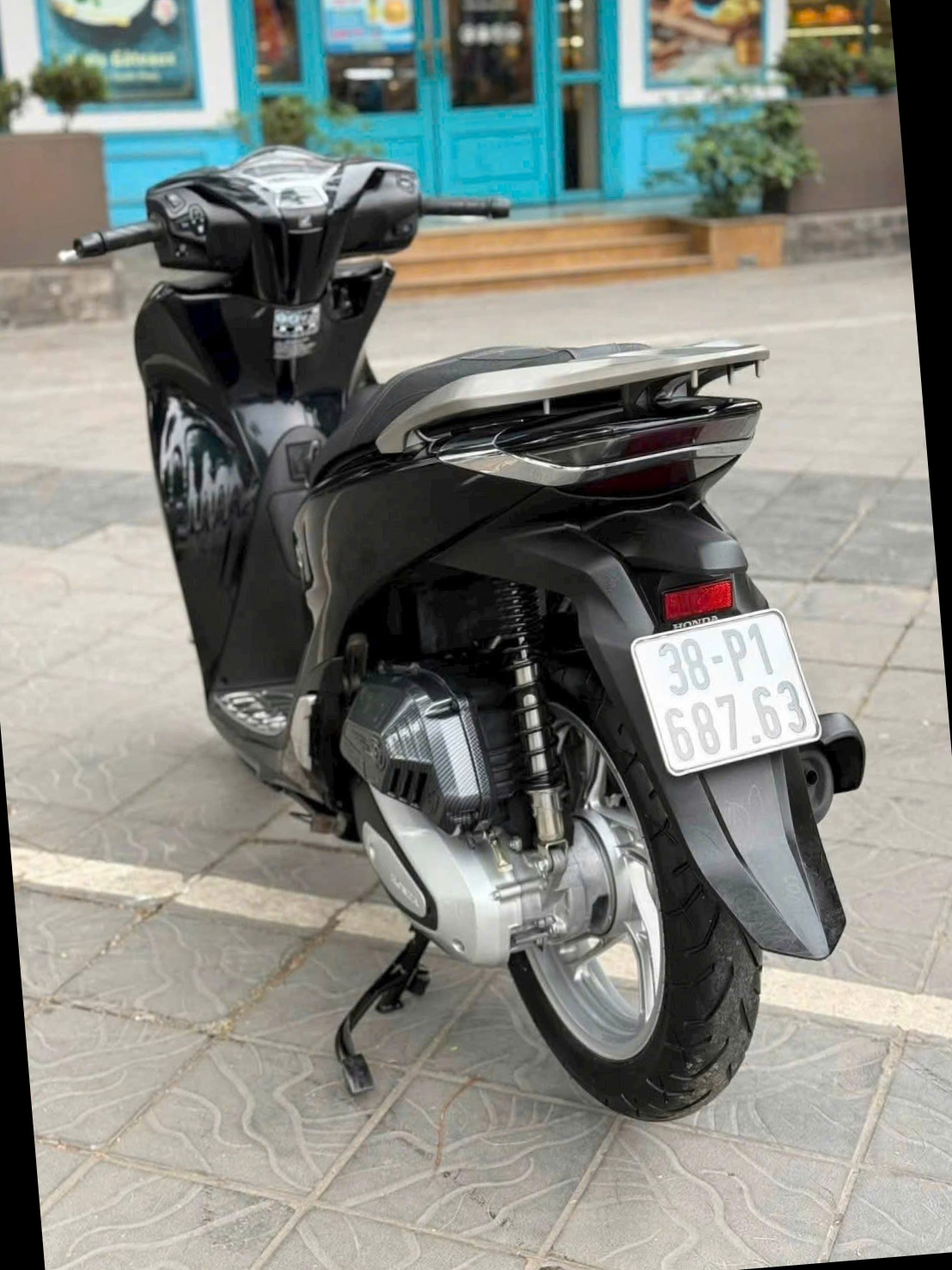Bien-so: (636, 634, 840, 795)
